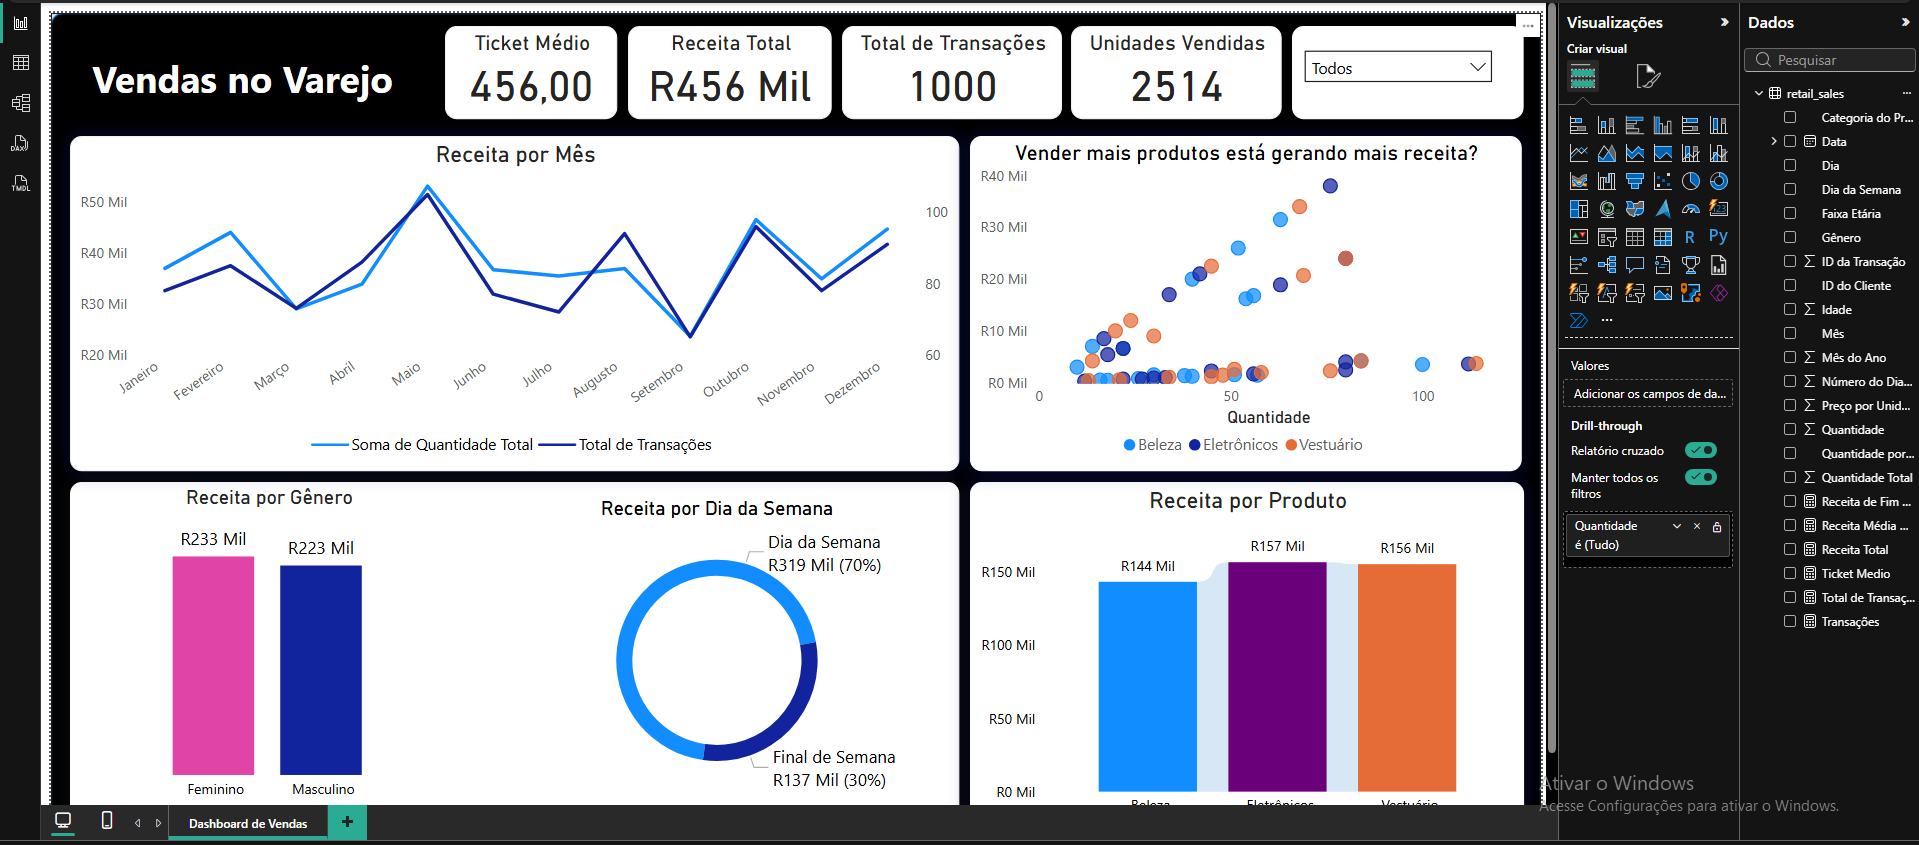

The page's visual inventory and layout, read from the dashboard file:
{"tool":"powerbi","page":{"name":"Dashboard de Vendas","canvas":[1280,720],"ordinal":0},"visuals":[{"type":"textbox","box":[0,105.3,1280,615],"z":0},{"type":"textbox","box":[0,0,1280,719.8],"z":1000},{"type":"textbox","box":[16,402.7,764,300],"z":2000},{"type":"textbox","box":[1066.4,10.9,199.1,80],"z":3000},{"type":"card","title":"Receita Total","fields":{"Values":["Sum(retail_sales.Total Amount)"]},"box":[495.5,10.9,175.5,80],"z":4000},{"type":"card","title":"Unidades Vendidas","fields":{"Values":["Sum(retail_sales.Quantity)"]},"box":[876.4,10.9,180.9,80],"z":5000},{"type":"card","title":"Total de Transações","fields":{"Values":["retail_sales.Transactions"]},"box":[679.1,10.9,189.1,80],"z":6000},{"type":"lineChart","title":"Receita por Mês","fields":{"Category":["retail_sales.Month"],"Y":["Sum(retail_sales.Total Amount)"],"Y2":["retail_sales.Total Transactions"]},"box":[16.4,105.5,763.6,288.2],"z":8000},{"type":"columnChart","title":"Receita por Produto","fields":{"Category":["retail_sales.Product Category"],"Y":["Sum(retail_sales.Total Amount)"]},"box":[789.3,402.7,476,300],"z":9000},{"type":"slicer","fields":{"Values":["retail_sales.Age_Group"]},"box":[1066.7,22.7,181.3,46.7],"z":10000},{"type":"columnChart","title":"Receita por Gênero","fields":{"Y":["Sum(retail_sales.Total Amount)"],"Category":["retail_sales.Gender"]},"box":[16.4,405.5,342.7,279.1],"z":11000},{"type":"donutChart","title":"Receita por Dia da Semana","fields":{"Y":["retail_sales.Total Revenue"],"Category":["retail_sales.Weekday_flag"]},"box":[381.3,414.7,381.3,261.3],"z":12000},{"type":"scatterChart","title":"Vender mais produtos está gerando mais receita?","fields":{"X":["Sum(retail_sales.Quantity)"],"Category":["retail_sales.Total Amount"],"Series":["retail_sales.Product Category"],"Y":["retail_sales.Total Revenue"]},"box":[789.1,105.5,473.6,288.2],"z":13000},{"type":"card","title":"Ticket Médio","fields":{"Values":["retail_sales.Ticket Medio"]},"box":[338.2,10.9,148.2,80],"z":14000}]}

Visuals, with their boxes in screenshot pixels (x1, y1, x2, y2):
textbox: (45, 132, 1526, 843)
textbox: (45, 10, 1526, 843)
textbox: (63, 476, 947, 823)
textbox: (1279, 23, 1509, 115)
"Receita Total" card: (618, 23, 821, 115)
"Unidades Vendidas" card: (1059, 23, 1268, 115)
"Total de Transações" card: (831, 23, 1049, 115)
"Receita por Mês" lineChart: (64, 132, 947, 465)
"Receita por Produto" columnChart: (958, 476, 1509, 823)
slicer - retail_sales.Age_Group: (1279, 36, 1489, 90)
"Receita por Gênero" columnChart: (64, 479, 460, 802)
"Receita por Dia da Semana" donutChart: (486, 490, 927, 792)
"Vender mais produtos está gerando mais receita?" scatterChart: (958, 132, 1506, 465)
"Ticket Médio" card: (436, 23, 608, 115)
